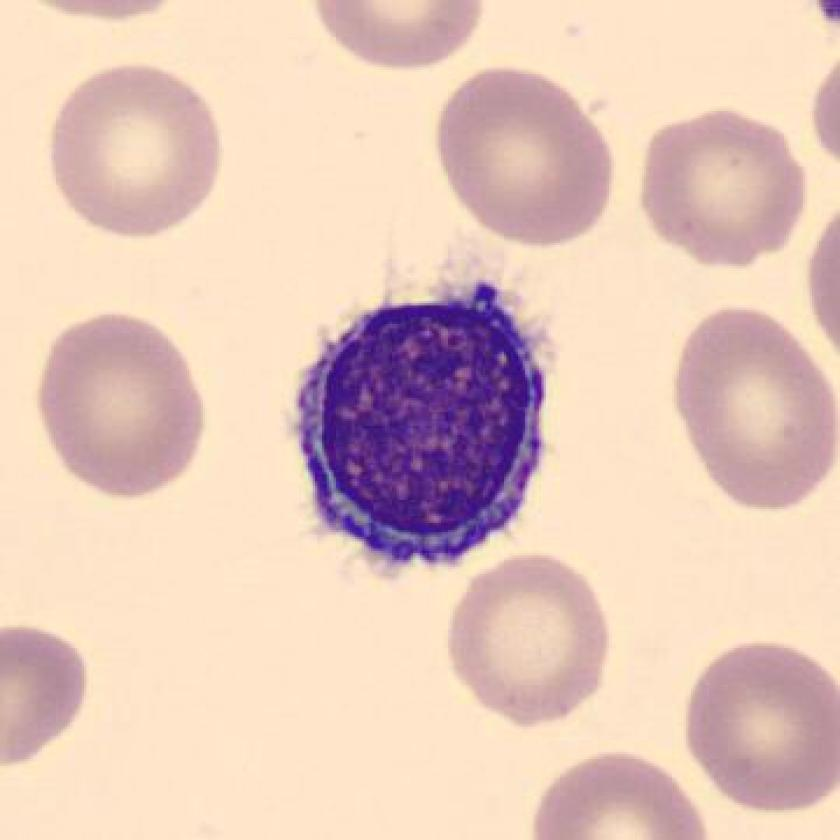lymphocyte: (281, 258, 570, 586)
